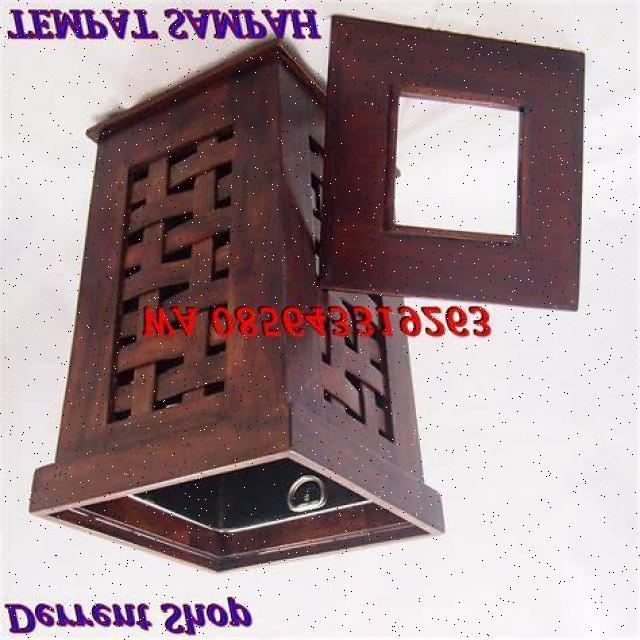garbage container: (15, 63, 576, 581)
